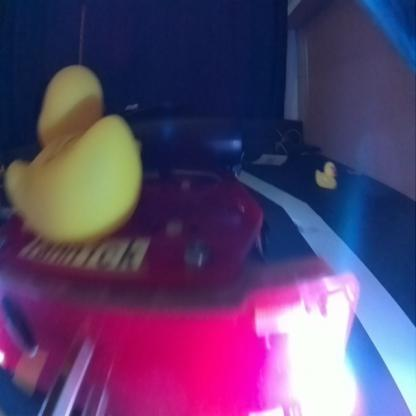Duckie: (6, 64, 142, 240), (315, 161, 336, 188)
Duckiebot: (1, 174, 357, 408)
